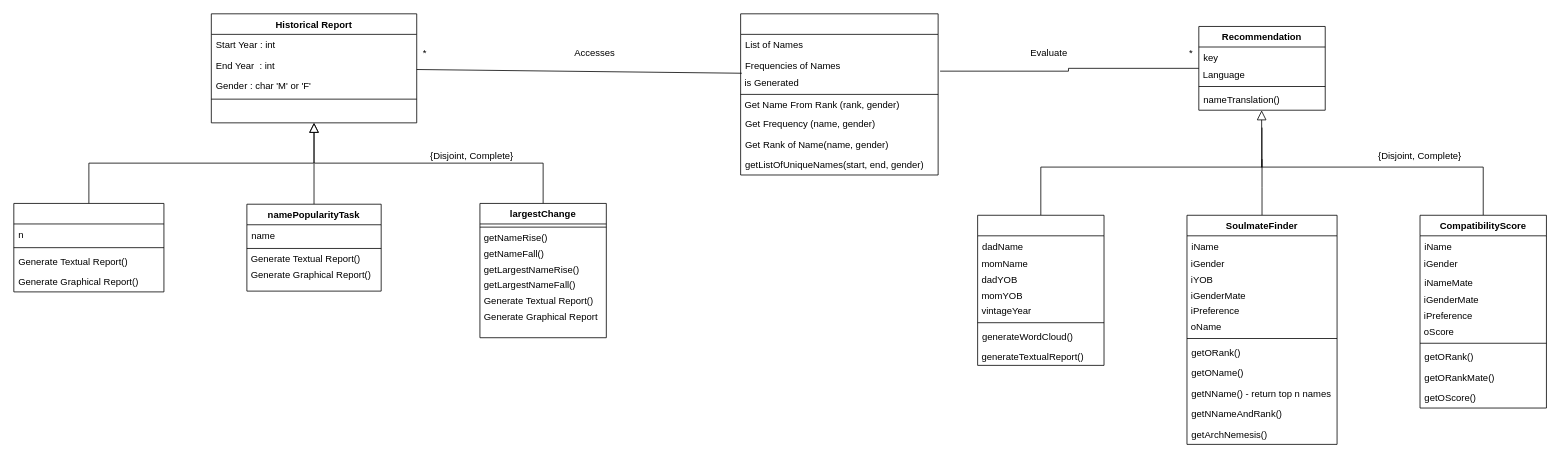
The diagram is 1560 pixels wide and 461 high, and some of its shapes have lost their labels. The shapes that lost their labels are listed below. From the top down, each one's box as (x1, y1, x2, y2) in pixels, then its label:
(740, 13, 938, 175): Data Sets
(13, 203, 164, 292): topNNames
(977, 214, 1104, 365): BestName
